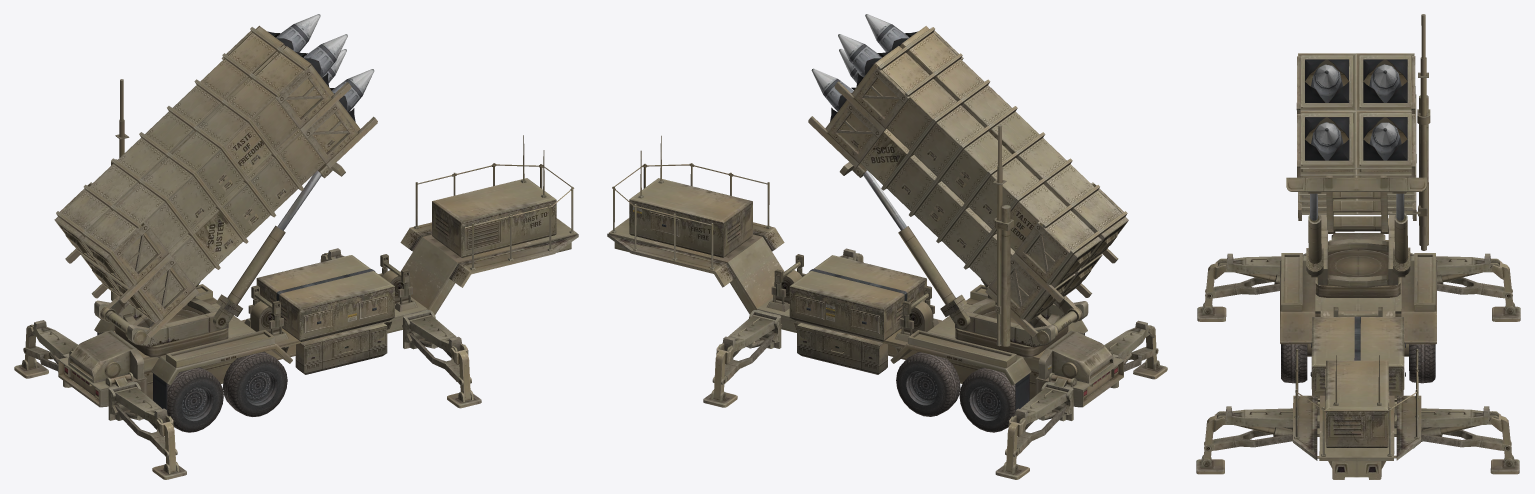
3 views of the same model, side by side, from view 1: azimuth 30°, elevation 25°; view 2: azimuth 150°, elevation 25°; view 3: azimuth 270°, elevation 25° (orthographic). The views are drawn at different scales.
Visible parts, largest first — view 1: Object_4, Object_3, Object_2; view 2: Object_4, Object_3, Object_2; view 3: Object_3, Object_4, Object_2.
Boxes of the visible parts, bbox=[...] form: Object_4: bbox=[54, 14, 377, 344]; Object_3: bbox=[14, 135, 578, 479]; Object_2: bbox=[167, 351, 287, 432]; Object_4: bbox=[808, 14, 1128, 346]; Object_3: bbox=[607, 135, 1167, 479]; Object_2: bbox=[896, 352, 1015, 432]; Object_3: bbox=[1196, 215, 1520, 479]; Object_4: bbox=[1286, 14, 1430, 277]; Object_2: bbox=[1281, 344, 1435, 383].
Bounding box in the file's own units: 1022 × 697 × 561.
Materials: 2 (2 with a texture image).
